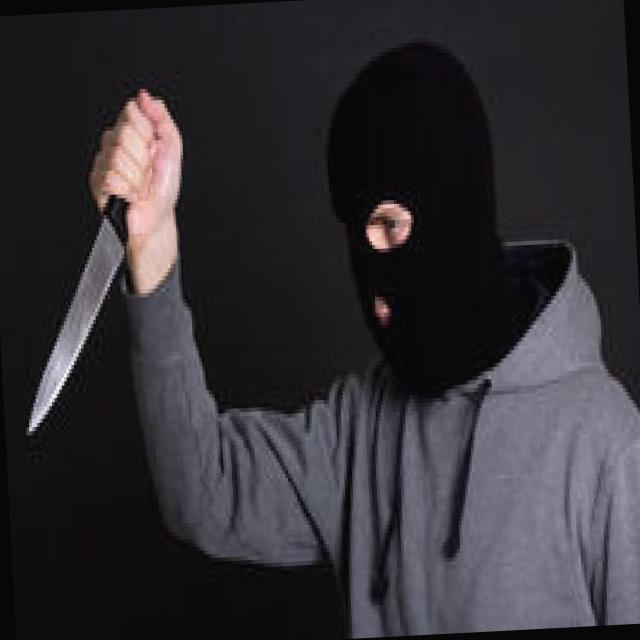knife: (0, 80, 183, 445)
